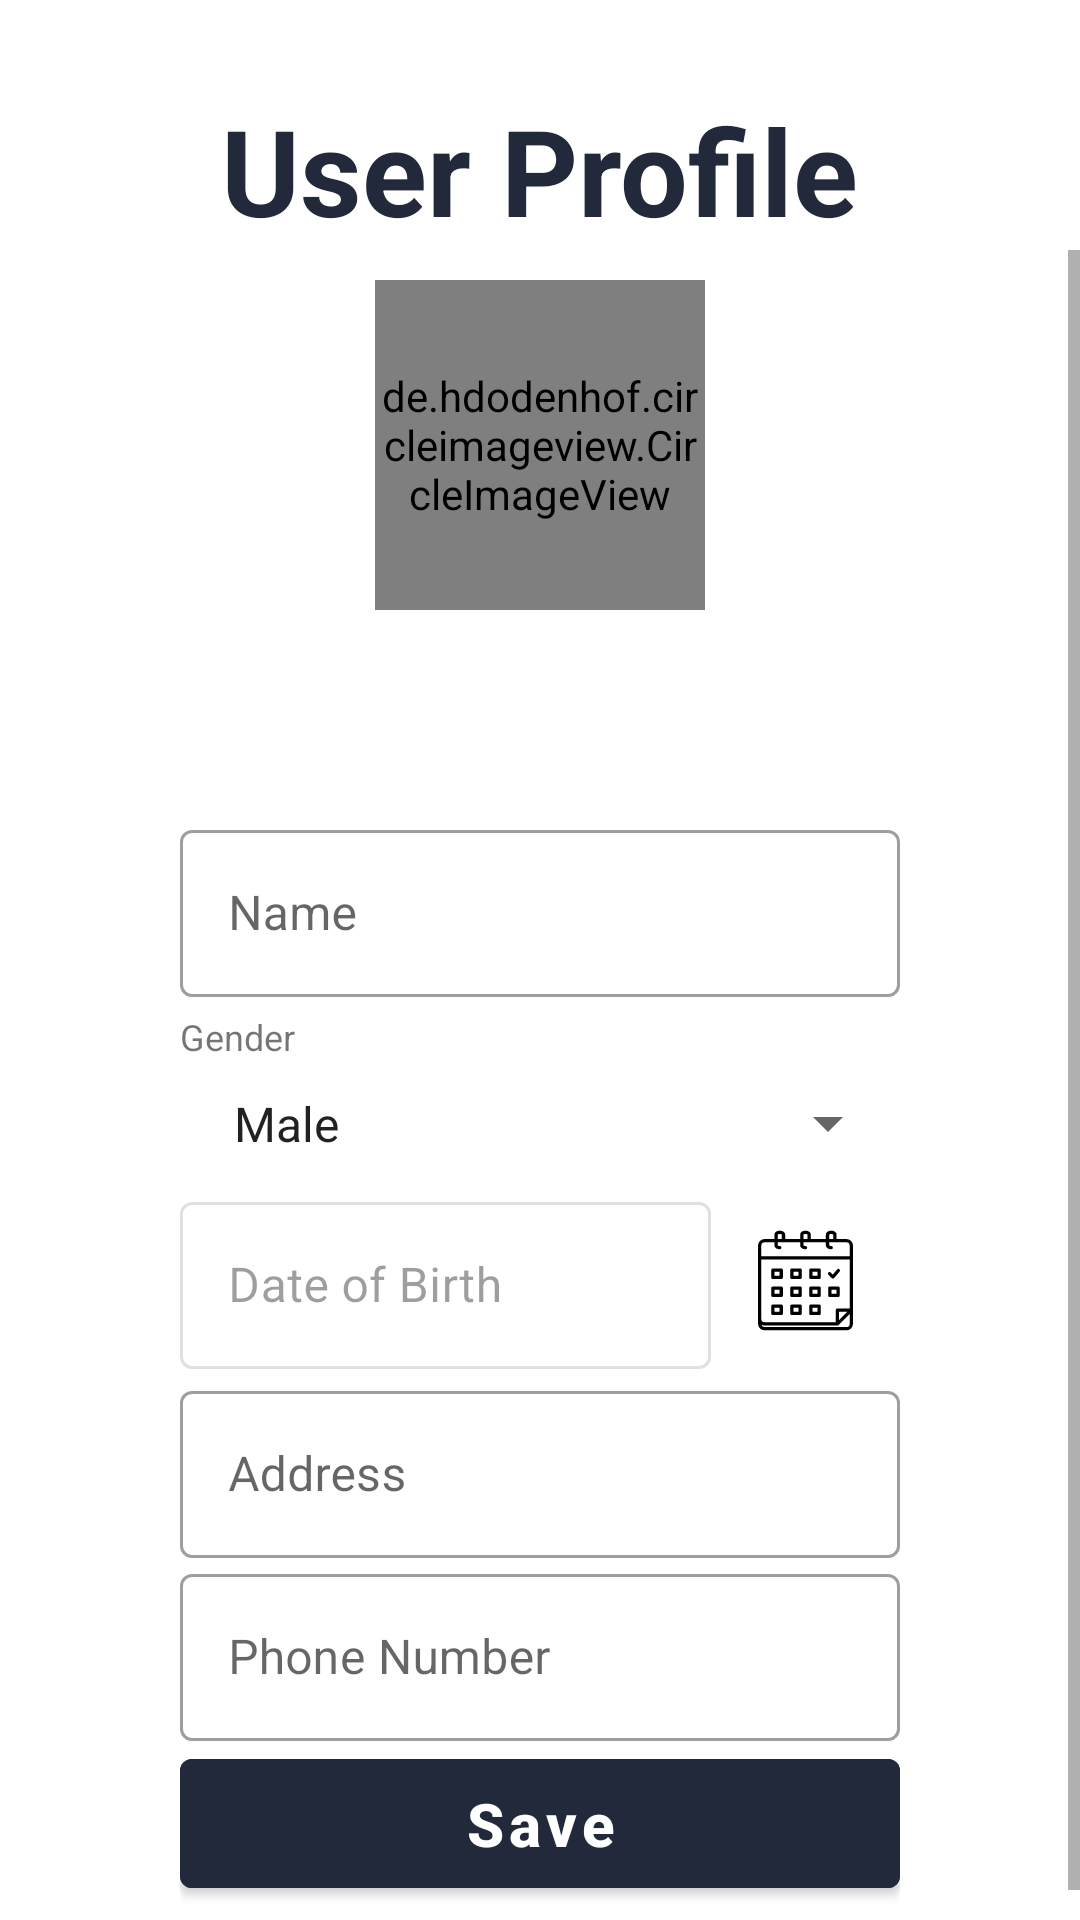

Screen size 1080 × 1920. Icon name, then its box in pixels as [x1, y1, x2, y2]:
calendar: [758, 1230, 853, 1331]
